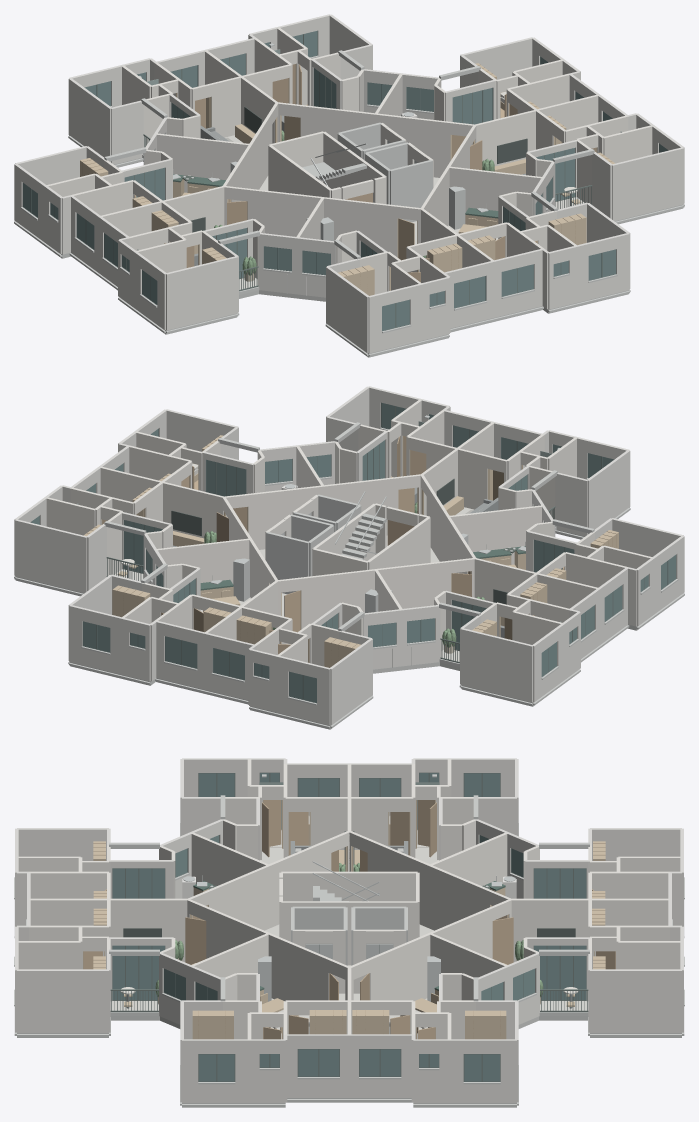
File: Grupo_19_Pavimento_8_Apartamentos.glb
The picture shows the model from 3 angles, top to bottom: view 1: azimuth 30°, elevation 25°; view 2: azimuth 150°, elevation 25°; view 3: azimuth 270°, elevation 25°; orthographic projection. The views are drawn at different scales.
Parts seen in each view (by area): view 1: Pavimento_01/Apartamento_0104/Arquitetura/Fachadas__Fachada_, Pavimento_01/Apartamento_0105/Arquitetura/Fachadas__Fachada_, Pavimento_01/Apartamento_0103/Arquitetura/Fachadas__Fachada_, Pavimento_01/Apartamento_0102/Arquitetura/Fachadas__Fachada_, Pavimento_01/Apartamento_0107/Arquitetura/Fachadas__Fachada_, Pavimento_01/Apartamento_0106/Arquitetura/Fachadas__Fachada_, Pavimento_01/Apartamento_0107/Arquitetura/Paredes_internas__, Pavimento_01/Apartamento_0102/Arquitetura/Paredes_internas__, Pavimento_01/Apartamento_0108/Arquitetura/Fachadas__Fachada_, Pavimento_01/Apartamento_0108/Arquitetura/Paredes_internas__, Pavimento_01/Apartamento_0101/Arquitetura/Fachadas__Fachada_, Pavimento_01/Apartamento_0101/Arquitetura/Paredes_internas__ (+45 smaller); view 2: Pavimento_01/Apartamento_0107/Arquitetura/Fachadas__Fachada_, Pavimento_01/Apartamento_0106/Arquitetura/Fachadas__Fachada_, Pavimento_01/Apartamento_0108/Arquitetura/Fachadas__Fachada_, Pavimento_01/Apartamento_0101/Arquitetura/Fachadas__Fachada_, Pavimento_01/Apartamento_0104/Arquitetura/Fachadas__Fachada_, Pavimento_01/Apartamento_0105/Arquitetura/Fachadas__Fachada_, Pavimento_01/Apartamento_0104/Arquitetura/Paredes_internas__, Pavimento_01/Apartamento_0101/Arquitetura/Paredes_internas__, Pavimento_01/Apartamento_0103/Arquitetura/Fachadas__Fachada_, Pavimento_01/Apartamento_0103/Arquitetura/Paredes_internas__, Pavimento_01/Apartamento_0102/Arquitetura/Fachadas__Fachada_, Pavimento_01/Apartamento_0102/Arquitetura/Paredes_internas__ (+46 smaller); view 3: Pavimento_01/Apartamento_0101/Arquitetura/Fachadas__Fachada_, Pavimento_01/Apartamento_0102/Arquitetura/Fachadas__Fachada_, Pavimento_01/Apartamento_0103/Arquitetura/Fachadas__Fachada_, Pavimento_01/Apartamento_0108/Arquitetura/Fachadas__Fachada_, Pavimento_01/Apartamento_0105/Arquitetura/Fachadas__Fachada_, Pavimento_01/Apartamento_0106/Arquitetura/Fachadas__Fachada_, Pavimento_01/Nucleo_inferido/Nucleo/Escada/Paredes__Parede_i, Pavimento_01/Apartamento_0105/Arquitetura/Paredes_internas__, Pavimento_01/Apartamento_0106/Arquitetura/Paredes_internas__, Pavimento_01/Apartamento_0103/Arquitetura/Compartilhadas/Eix, Pavimento_01/Apartamento_0107/Arquitetura/Compartilhadas/Eix, Pavimento_01/Apartamento_0107/Arquitetura/Fachadas__Fachada_ (+47 smaller).
Boxes of the visible parts, x1,y1,x2,y2 form: Pavimento_01/Apartamento_0104/Arquitetura/Fachadas__Fachada_: [297, 237, 494, 353]; Pavimento_01/Apartamento_0105/Arquitetura/Fachadas__Fachada_: [98, 216, 297, 330]; Pavimento_01/Apartamento_0103/Arquitetura/Fachadas__Fachada_: [493, 178, 630, 317]; Pavimento_01/Apartamento_0102/Arquitetura/Fachadas__Fachada_: [542, 95, 684, 221]; Pavimento_01/Apartamento_0107/Arquitetura/Fachadas__Fachada_: [68, 50, 205, 164]; Pavimento_01/Apartamento_0106/Arquitetura/Fachadas__Fachada_: [14, 133, 156, 272]; Pavimento_01/Apartamento_0107/Arquitetura/Paredes_internas__: [122, 62, 240, 147]; Pavimento_01/Apartamento_0102/Arquitetura/Paredes_internas__: [526, 110, 652, 203]; Pavimento_01/Apartamento_0108/Arquitetura/Fachadas__Fachada_: [205, 14, 401, 113]; Pavimento_01/Apartamento_0108/Arquitetura/Paredes_internas__: [242, 27, 363, 111]; Pavimento_01/Apartamento_0101/Arquitetura/Fachadas__Fachada_: [401, 37, 599, 119]; Pavimento_01/Apartamento_0101/Arquitetura/Paredes_internas__: [434, 59, 569, 120]; Pavimento_01/Apartamento_0107/Arquitetura/Fachadas__Fachada_: [204, 609, 401, 725]; Pavimento_01/Apartamento_0106/Arquitetura/Fachadas__Fachada_: [401, 589, 600, 702]; Pavimento_01/Apartamento_0108/Arquitetura/Fachadas__Fachada_: [68, 550, 205, 689]; Pavimento_01/Apartamento_0101/Arquitetura/Fachadas__Fachada_: [14, 467, 156, 593]; Pavimento_01/Apartamento_0104/Arquitetura/Fachadas__Fachada_: [493, 422, 630, 536]; Pavimento_01/Apartamento_0105/Arquitetura/Fachadas__Fachada_: [542, 505, 684, 644]; Pavimento_01/Apartamento_0104/Arquitetura/Paredes_internas__: [458, 434, 577, 519]; Pavimento_01/Apartamento_0101/Arquitetura/Paredes_internas__: [46, 482, 172, 575]; Pavimento_01/Apartamento_0103/Arquitetura/Fachadas__Fachada_: [297, 386, 493, 485]; Pavimento_01/Apartamento_0103/Arquitetura/Paredes_internas__: [335, 399, 456, 483]; Pavimento_01/Apartamento_0102/Arquitetura/Fachadas__Fachada_: [99, 409, 297, 491]; Pavimento_01/Apartamento_0102/Arquitetura/Paredes_internas__: [129, 431, 264, 492]; Pavimento_01/Apartamento_0101/Arquitetura/Fachadas__Fachada_: [349, 966, 518, 1103]; Pavimento_01/Apartamento_0102/Arquitetura/Fachadas__Fachada_: [180, 966, 349, 1103]; Pavimento_01/Apartamento_0103/Arquitetura/Fachadas__Fachada_: [15, 899, 192, 1033]; Pavimento_01/Apartamento_0108/Arquitetura/Fachadas__Fachada_: [507, 899, 683, 1033]; Pavimento_01/Apartamento_0105/Arquitetura/Fachadas__Fachada_: [180, 758, 349, 844]; Pavimento_01/Apartamento_0106/Arquitetura/Fachadas__Fachada_: [349, 758, 518, 844]; Pavimento_01/Nucleo_inferido/Nucleo/Escada/Paredes__Parede_i: [281, 871, 417, 965]; Pavimento_01/Apartamento_0105/Arquitetura/Paredes_internas__: [223, 759, 349, 859]; Pavimento_01/Apartamento_0106/Arquitetura/Paredes_internas__: [349, 759, 475, 859]; Pavimento_01/Apartamento_0103/Arquitetura/Compartilhadas/Eix: [29, 898, 187, 962]; Pavimento_01/Apartamento_0107/Arquitetura/Compartilhadas/Eix: [511, 898, 669, 962]; Pavimento_01/Apartamento_0107/Arquitetura/Fachadas__Fachada_: [506, 828, 683, 926].
Size of the model in its own units: 26.04 by 4.06 by 26.04.
